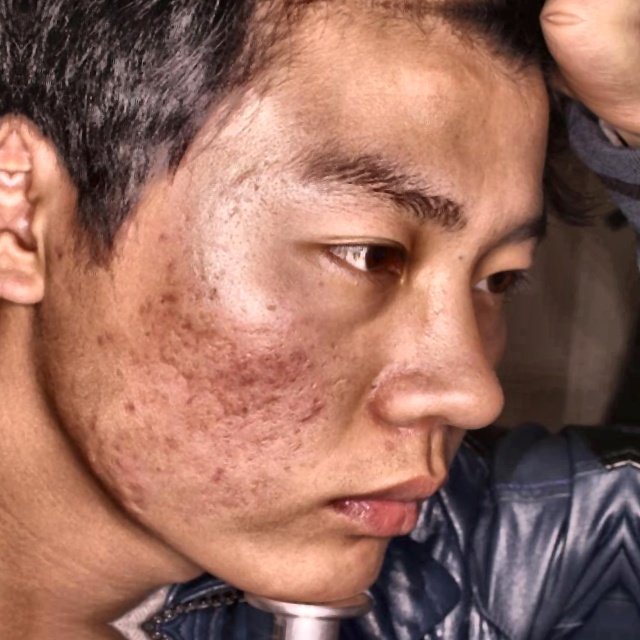comedone: (108, 390, 141, 415), (79, 410, 105, 441), (153, 284, 182, 309)
